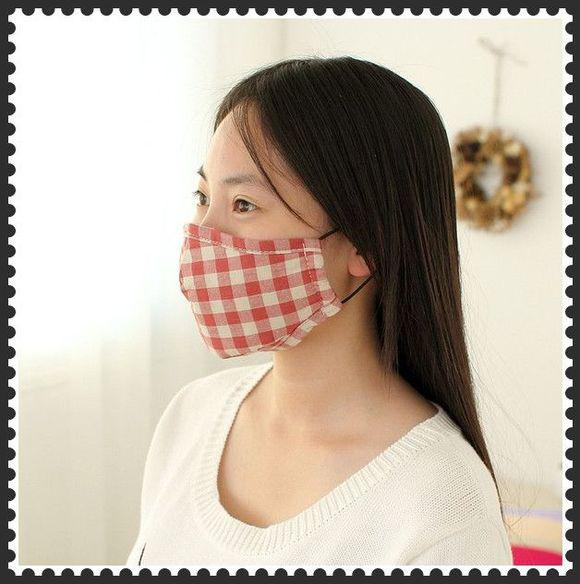OK: (179, 160, 366, 348)
